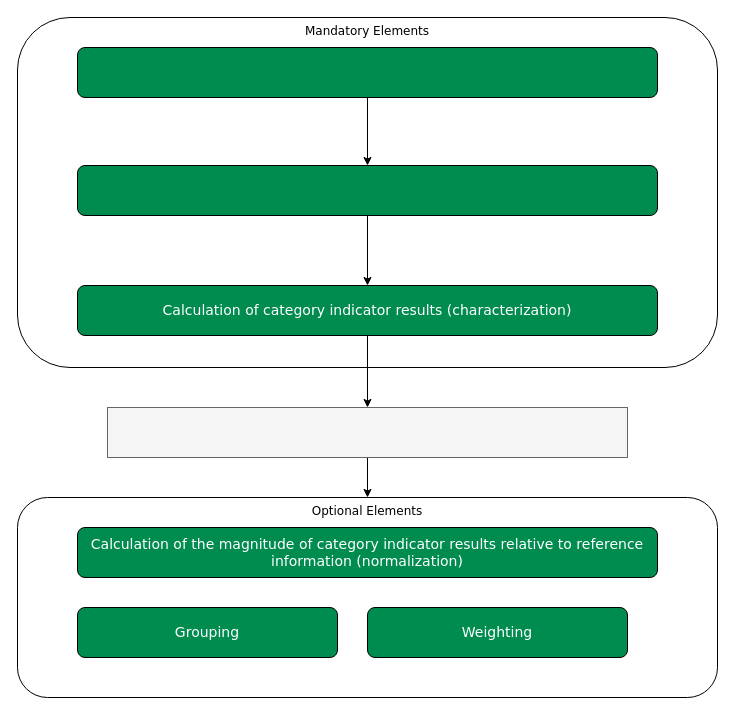
Image size: 735x715. Some labels were removed from this diagram. Each missing label, with the centre of its shape:
"Assignment of LCI results (classification)" goes at (x=367, y=190).
"Category indicator results, LCIA results" goes at (x=367, y=432).
"Selection of impact categories, category indicators and characterization models" goes at (x=367, y=72).
